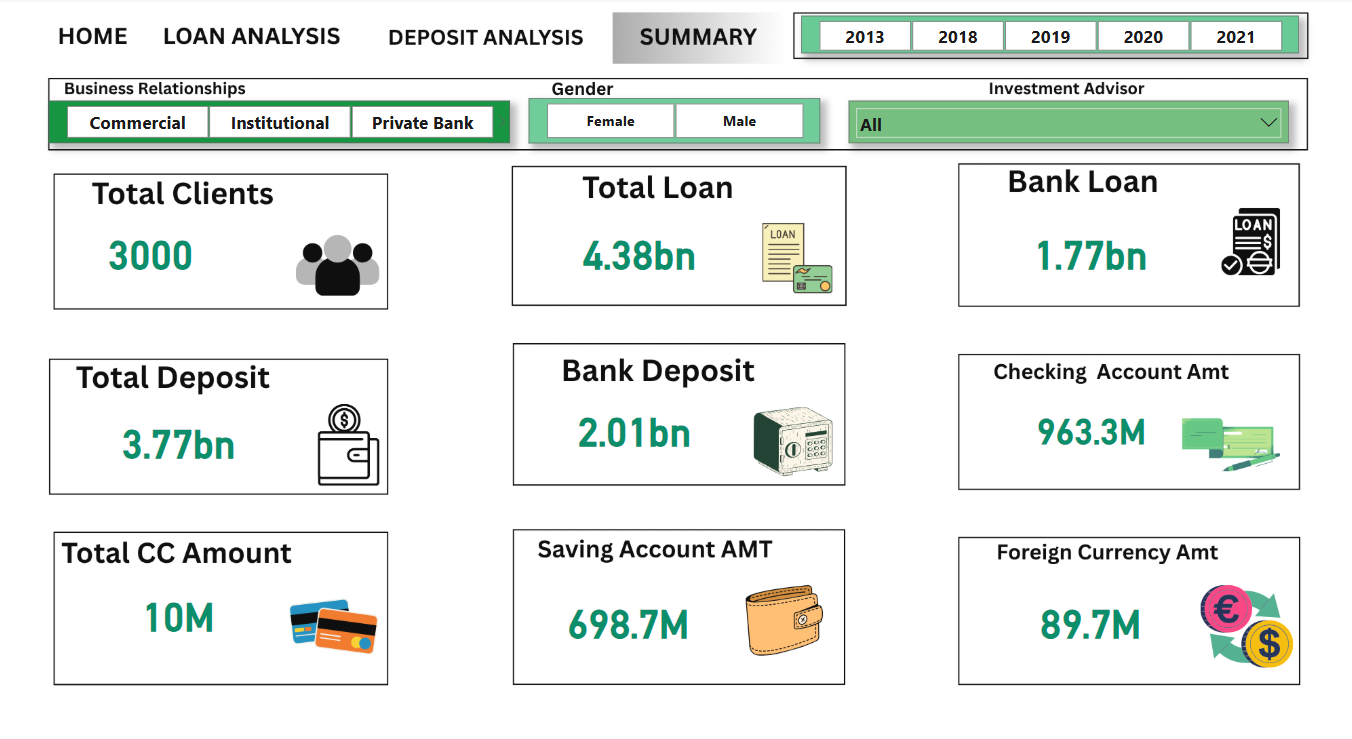

What the dashboard file says about the page in this screenshot:
{"tool":"powerbi","page":{"name":"summary","canvas":[2000,1100],"ordinal":3},"visuals":[{"type":"card","fields":{"Values":["CountNonNull(Banking_Clients.Client ID)"]},"box":[119.8,317,219.3,112.4],"z":0},{"type":"card","fields":{"Values":["Banking_Clients.Total loan"]},"box":[853.4,317,193.5,112.4],"z":1000},{"type":"card","fields":{"Values":["Banking_Clients.Total Deposit"]},"box":[180.6,595.3,180.6,112.4],"z":2000},{"type":"card","fields":{"Values":["Sum(Banking_Clients.Saving Accounts)"]},"box":[820.2,860.8,226.7,112.4],"z":3000},{"type":"card","fields":{"Values":["Sum(Banking_Clients.Bank Loans)"]},"box":[1526.1,317,178.8,112.4],"z":4000},{"type":"card","fields":{"Values":["Sum(Banking_Clients.Credit Card Balance)"]},"box":[154.8,851.5,230.4,112.4],"z":5000},{"type":"card","fields":{"Values":["Sum(Banking_Clients.Foreign Currency Account)"]},"box":[1511.4,851.5,208.3,130.9],"z":6000},{"type":"card","fields":{"Values":["Sum(Banking_Clients.Bank Deposits)"]},"box":[853.4,578.8,178.8,112.4],"z":7000},{"type":"card","fields":{"Values":["Sum(Banking_Clients.Checking Accounts)"]},"box":[1511.4,578.8,210.1,112.4],"z":8000},{"type":"slicer","fields":{"Values":["Banking_Clients.BRId"]},"box":[79.3,153,680.1,62.7],"z":9000},{"type":"slicer","fields":{"Values":["Banking_Clients.GenderId"]},"box":[787,149.3,429.5,66.4],"z":10000},{"type":"slicer","fields":{"Values":["Banking_Clients.IAId"]},"box":[1258.9,153,648.8,62.7],"z":11000},{"type":"slicer","fields":{"Values":["Banking_Clients.Year of joining"]},"box":[1188.8,27.6,733.6,55.3],"z":12000},{"type":"actionButton","box":[79.3,27.6,138.2,55.3],"z":13000},{"type":"actionButton","box":[239.6,14.7,280.2,68.2],"z":14000},{"type":"actionButton","box":[558.5,27.6,320.7,55.3],"z":15000}]}

Visuals, with their boxes in screenshot pixels (x1, y1, x2, y2), scaled from the page's 2000x1100 canvas onto the 1352x739 screenshot:
card - CountNonNull(Banking_Clients.Client ID): <bbox>81, 213, 229, 288</bbox>
card - Banking_Clients.Total loan: <bbox>577, 213, 708, 288</bbox>
card - Banking_Clients.Total Deposit: <bbox>122, 400, 244, 475</bbox>
card - Sum(Banking_Clients.Saving Accounts): <bbox>554, 578, 708, 654</bbox>
card - Sum(Banking_Clients.Bank Loans): <bbox>1032, 213, 1153, 288</bbox>
card - Sum(Banking_Clients.Credit Card Balance): <bbox>105, 572, 260, 648</bbox>
card - Sum(Banking_Clients.Foreign Currency Account): <bbox>1022, 572, 1163, 660</bbox>
card - Sum(Banking_Clients.Bank Deposits): <bbox>577, 389, 698, 464</bbox>
card - Sum(Banking_Clients.Checking Accounts): <bbox>1022, 389, 1164, 464</bbox>
slicer - Banking_Clients.BRId: <bbox>54, 103, 513, 145</bbox>
slicer - Banking_Clients.GenderId: <bbox>532, 100, 822, 145</bbox>
slicer - Banking_Clients.IAId: <bbox>851, 103, 1290, 145</bbox>
slicer - Banking_Clients.Year of joining: <bbox>804, 19, 1300, 56</bbox>
actionButton: <bbox>54, 19, 147, 56</bbox>
actionButton: <bbox>162, 10, 351, 56</bbox>
actionButton: <bbox>378, 19, 594, 56</bbox>
